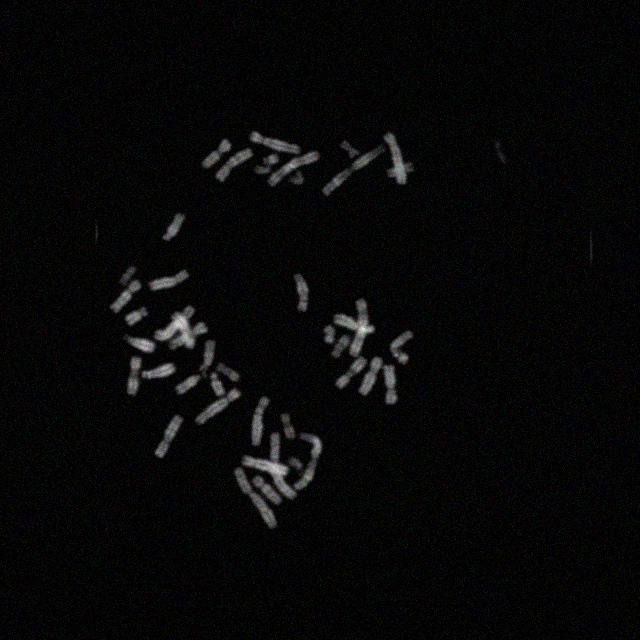chromosome: (322, 146, 383, 197), (234, 468, 276, 528), (268, 152, 320, 186), (270, 433, 296, 499), (194, 388, 240, 424), (294, 434, 322, 491), (155, 305, 195, 341), (154, 414, 182, 458), (250, 130, 298, 154), (216, 150, 252, 182), (384, 132, 406, 184), (168, 322, 208, 350), (350, 298, 368, 358), (110, 280, 140, 312), (336, 357, 366, 389), (251, 396, 269, 446), (252, 476, 284, 504), (360, 356, 382, 396), (201, 140, 231, 168), (149, 270, 189, 290), (172, 312, 194, 348), (242, 456, 286, 474), (391, 331, 414, 365), (162, 212, 186, 242), (334, 315, 374, 333), (124, 333, 154, 352), (142, 363, 176, 379), (384, 366, 398, 404), (294, 275, 308, 311), (176, 374, 200, 394), (217, 362, 240, 382), (128, 357, 140, 395), (281, 412, 297, 440), (332, 335, 350, 359), (118, 265, 136, 287), (126, 308, 148, 326), (388, 163, 414, 177), (341, 141, 359, 159), (210, 372, 223, 396), (203, 339, 214, 367), (323, 324, 335, 344), (289, 172, 303, 186), (288, 456, 302, 470), (254, 165, 270, 175), (264, 154, 278, 164)
